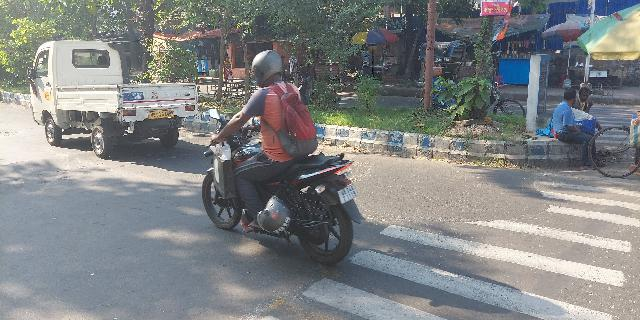Minitruck: (20, 37, 199, 164)
Motorbike: (195, 52, 364, 264)
